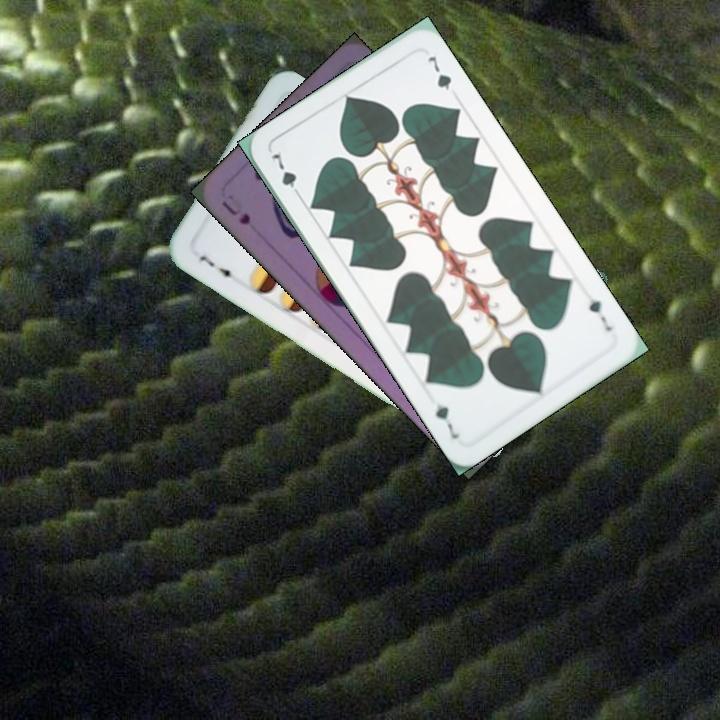E7: (195, 251, 238, 284)
G7: (267, 147, 305, 202), (584, 294, 615, 334)
SU: (217, 196, 254, 227)
